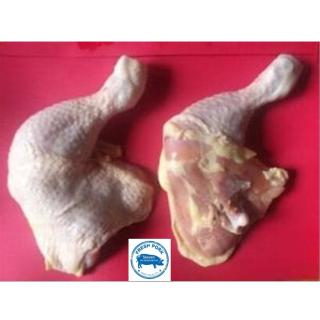Ayam: (7, 53, 160, 279), (158, 52, 305, 270)
